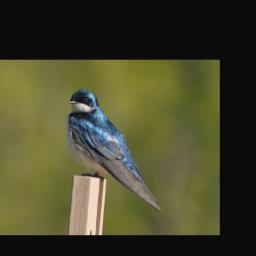Swallow: (64, 86, 162, 214)
